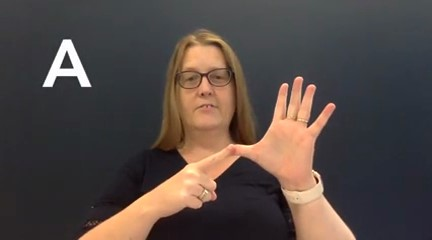A: (153, 76, 338, 219)
